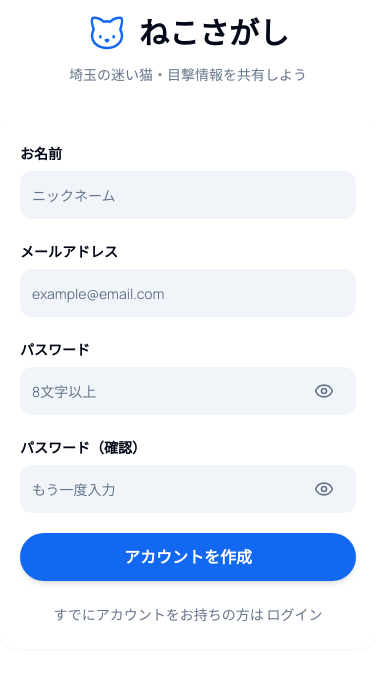
Test: Register › パスワードが8文字未満の時、フィールド下にエラーが表示されること
Type "test@example.com" into the field labelled "メールアドレス".
click(188, 293); type("test@example.com")  # box [20,269,356,317]
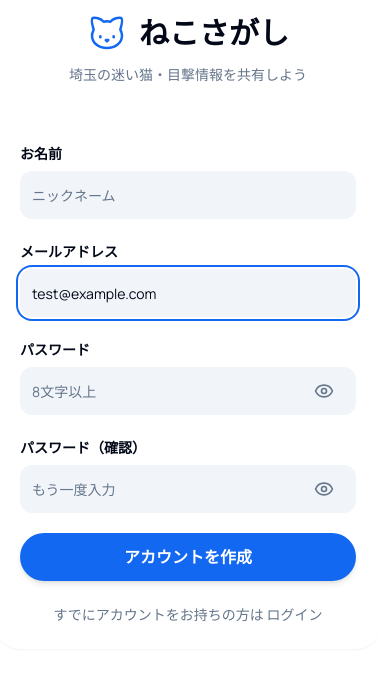
Type "short" into the password field labelled "パスワード".
click(188, 391); type("short")  # box [20,367,356,415]
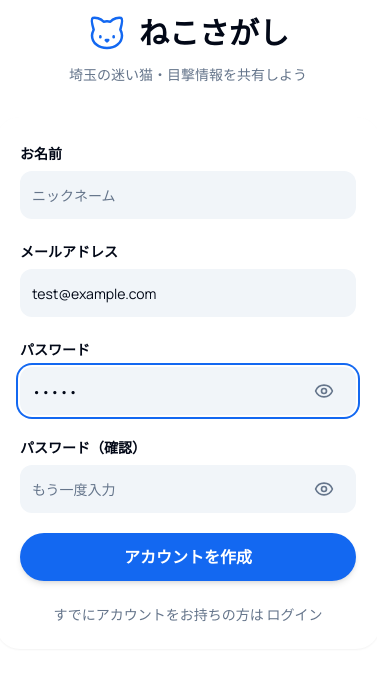
Type "short" into the password field labelled "パスワード（確認）".
click(188, 489); type("short")  # box [20,465,356,513]
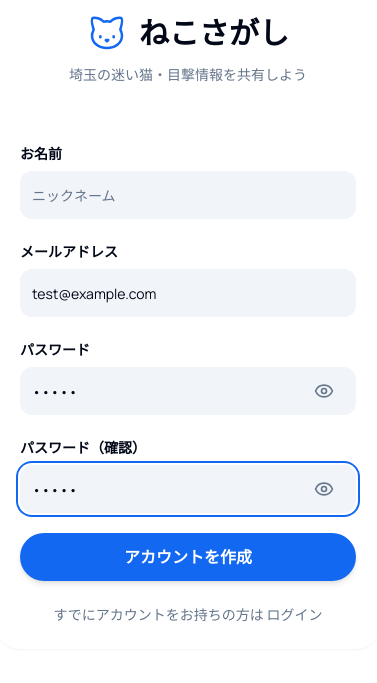
Click the button "アカウントを作成".
click(188, 557)  # box [20,533,356,581]
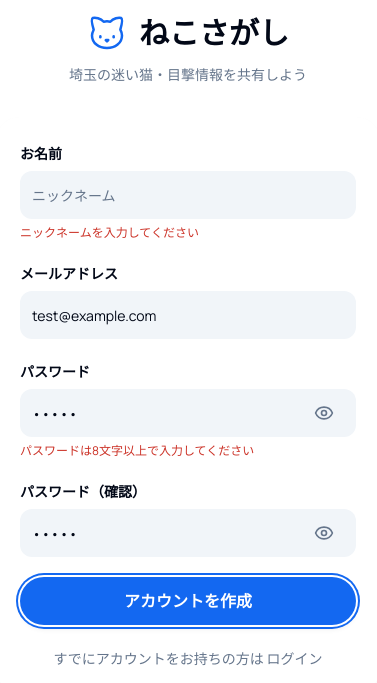
Expected: the text "パスワードは8文字以上で入力してください" is shown, [20,442,254,459]
